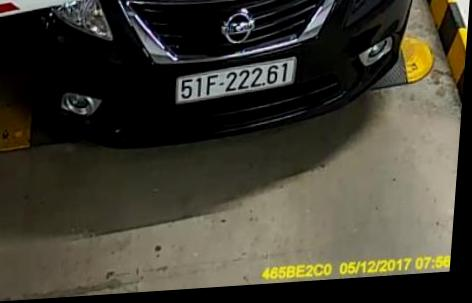License_Plate: (165, 45, 301, 105)
